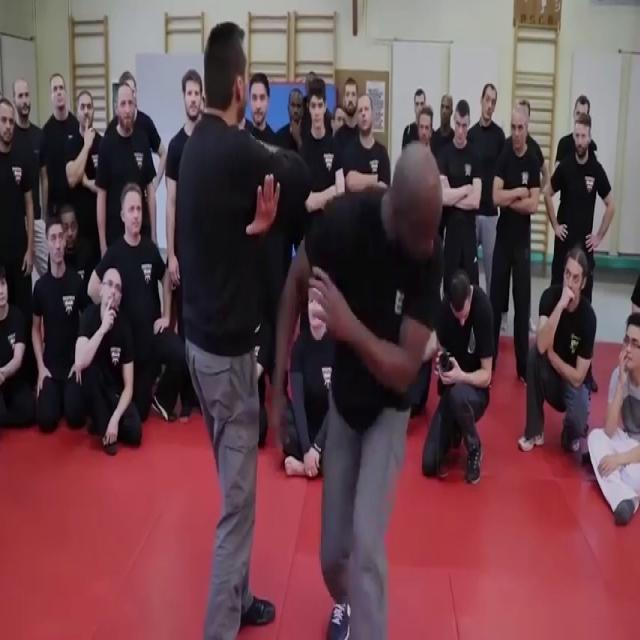fight: (156, 10, 449, 638)
non-fight: (87, 181, 173, 430), (540, 110, 610, 394), (422, 267, 502, 487), (32, 218, 92, 436)
